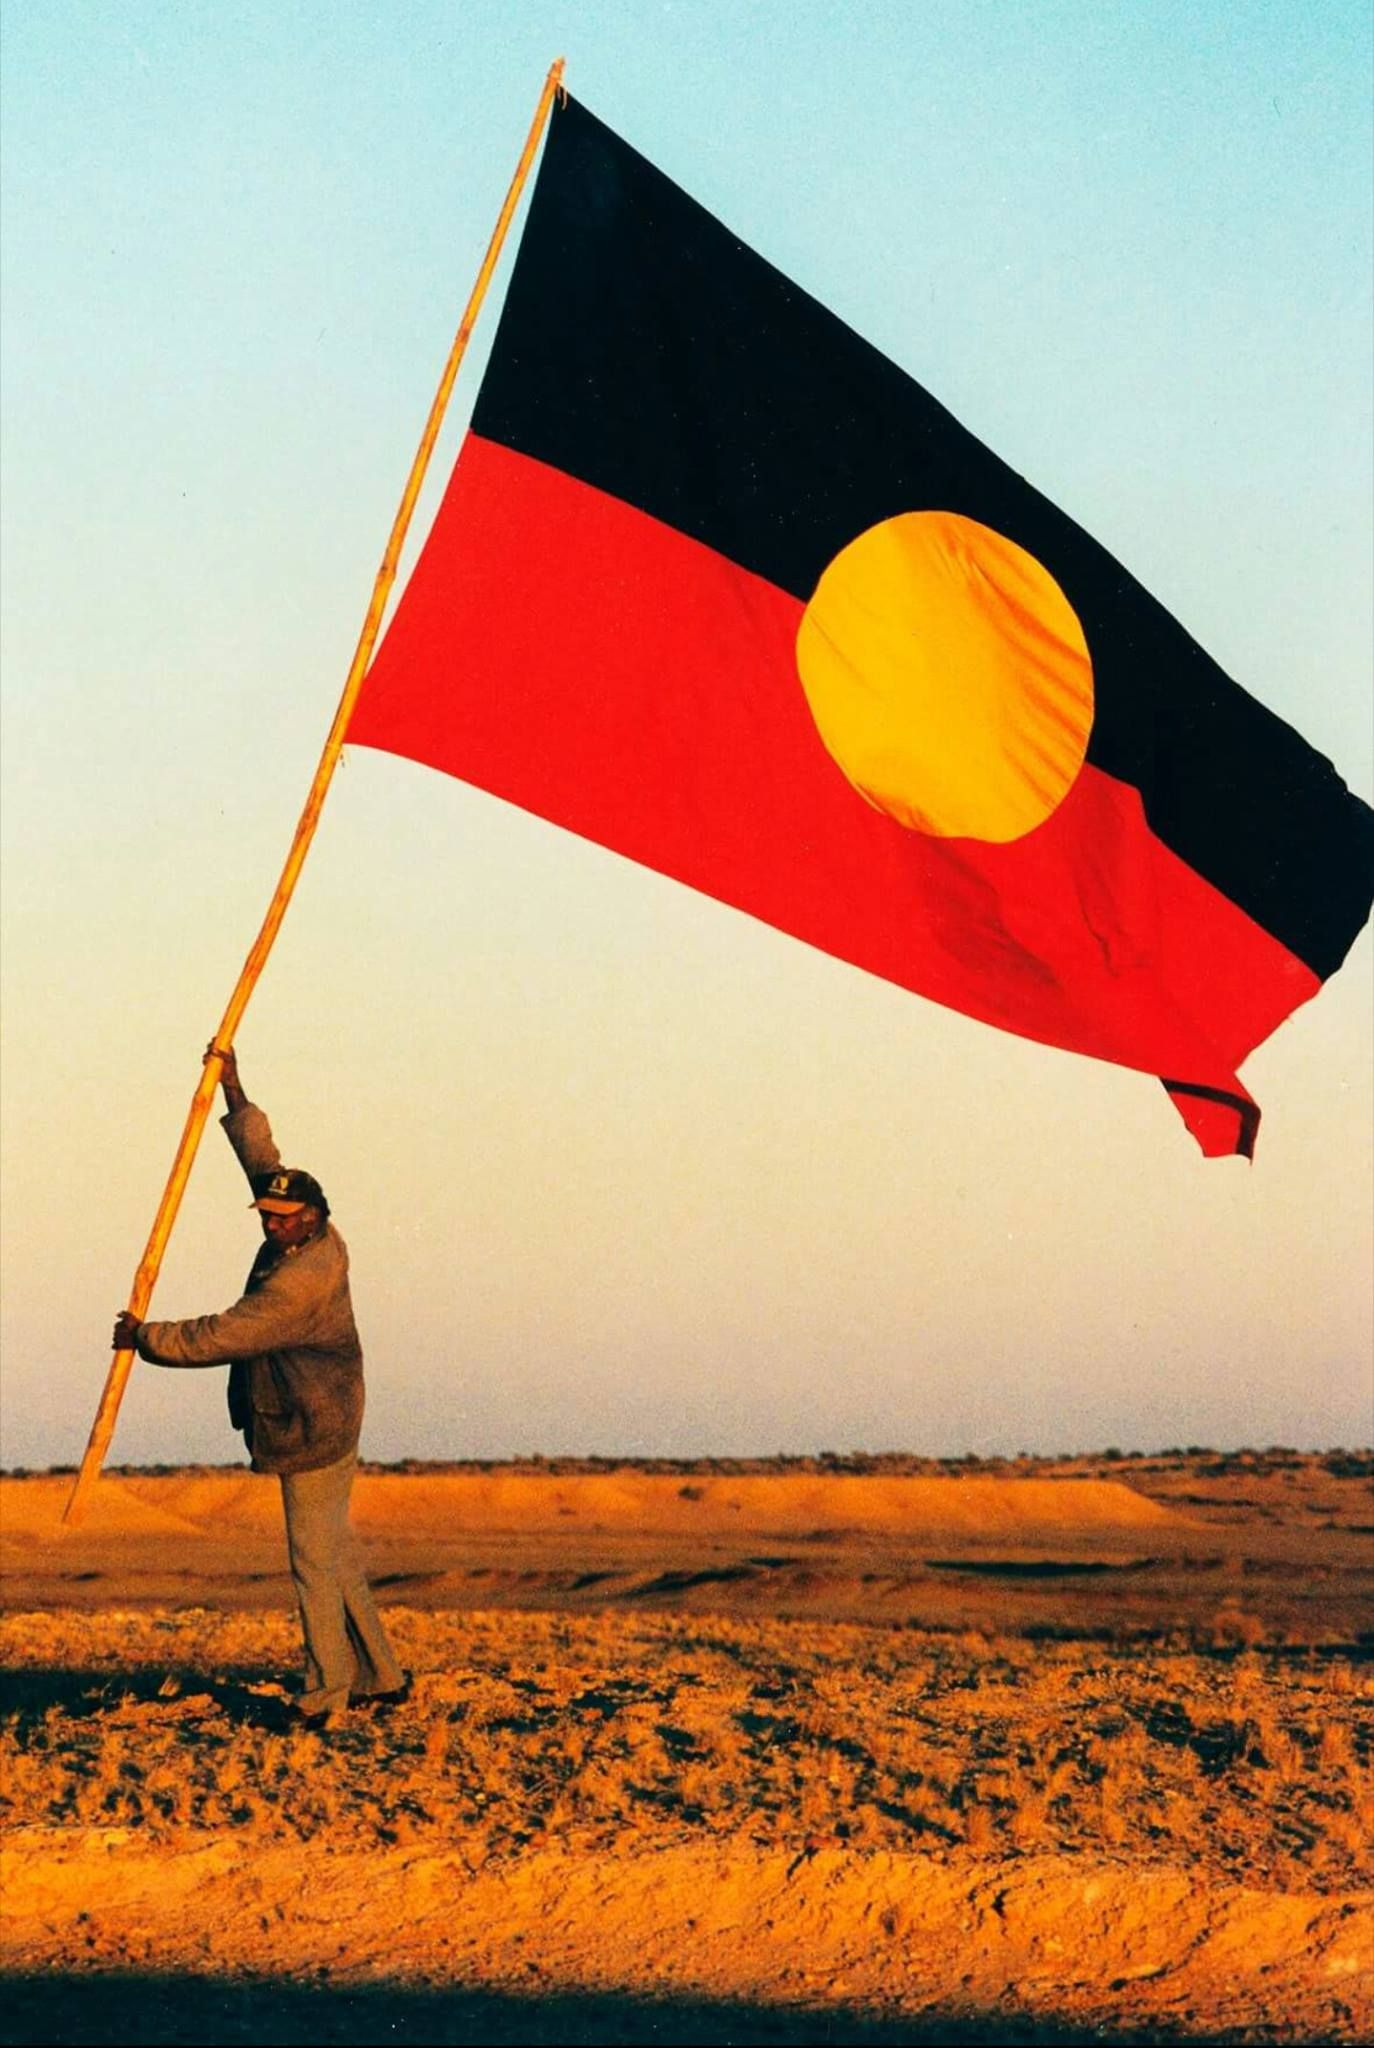aboriginal_flag: (310, 44, 1374, 1177)
